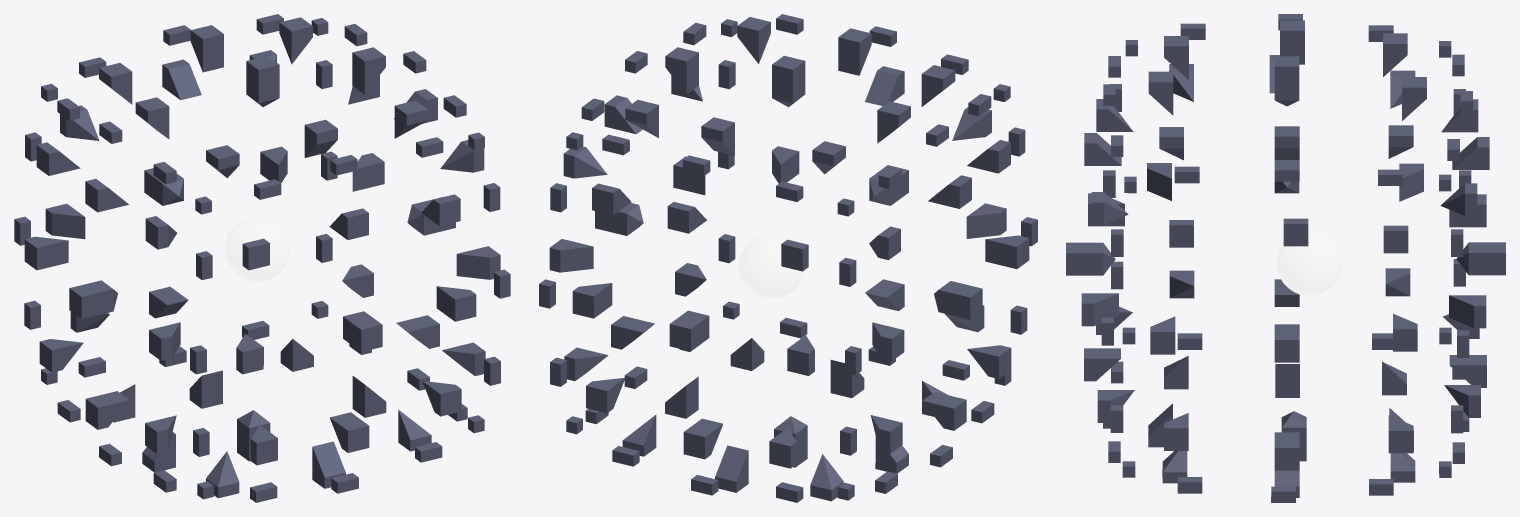
3 renders of one model, left to right at view 1: azimuth 30°, elevation 25°; view 2: azimuth 150°, elevation 25°; view 3: azimuth 270°, elevation 25°, orthographic.
Visible parts, largest first — view 1: Cube_cell.004, Sphere; view 2: Cube_cell.004, Sphere; view 3: Cube_cell.004, Sphere.
Part boxes in pixels (x1=…): Cube_cell.004: x1=14, y1=14, x2=510, y2=502; Sphere: x1=224, y1=216, x2=290, y2=282; Cube_cell.004: x1=539, y1=14, x2=1037, y2=502; Sphere: x1=738, y1=233, x2=804, y2=298; Cube_cell.004: x1=1066, y1=14, x2=1505, y2=502; Sphere: x1=1276, y1=229, x2=1342, y2=295.
Bounding box in the file's own units: 13.08 × 13.11 × 13.15.
